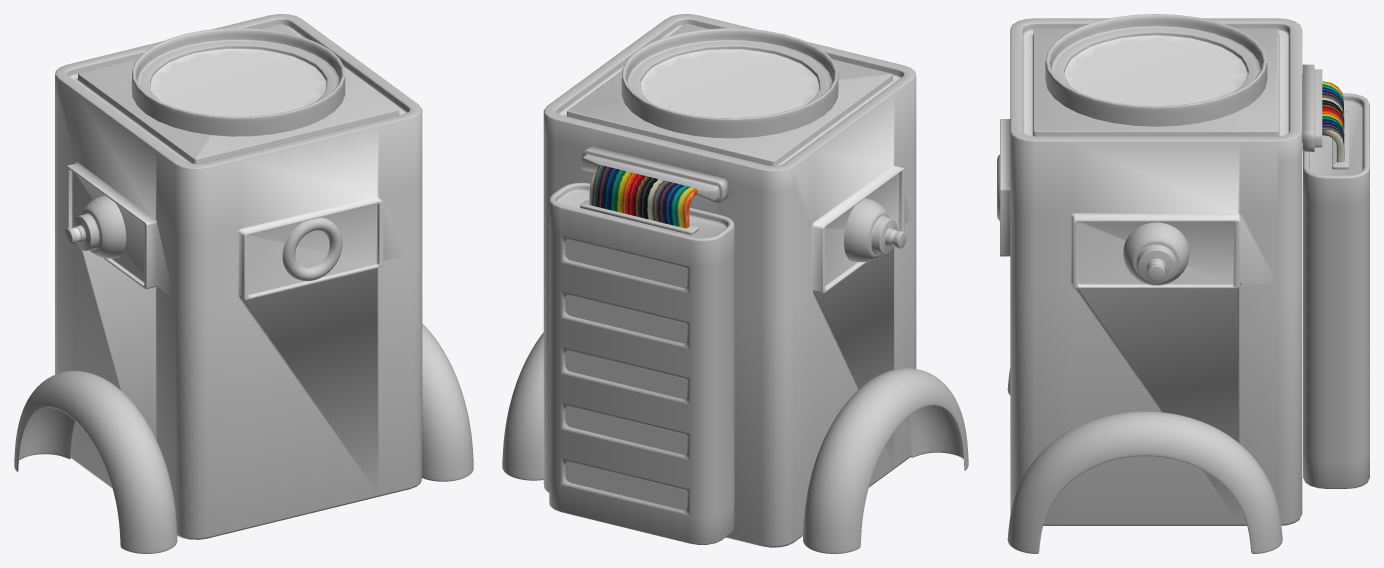
3 views of the same model, side by side, from view 1: azimuth 30°, elevation 25°; view 2: azimuth 150°, elevation 25°; view 3: azimuth 270°, elevation 25° (orthographic). The views are drawn at different scales.
Parts seen in each view (by area): view 1: Robot; view 2: Robot; view 3: Robot.
Boxes of the visible parts, box(x1,y1,x2,y2) form: Robot: box(14, 14, 473, 553); Robot: box(502, 14, 968, 553); Robot: box(997, 14, 1369, 553).
Size of the model in its own units: 643 by 688 by 573.
